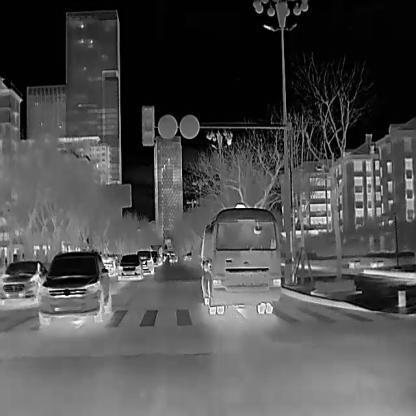car: (200, 201, 282, 314), (35, 249, 108, 326), (0, 260, 46, 301), (114, 253, 141, 280), (138, 250, 153, 275), (149, 244, 162, 262), (167, 251, 177, 262)
